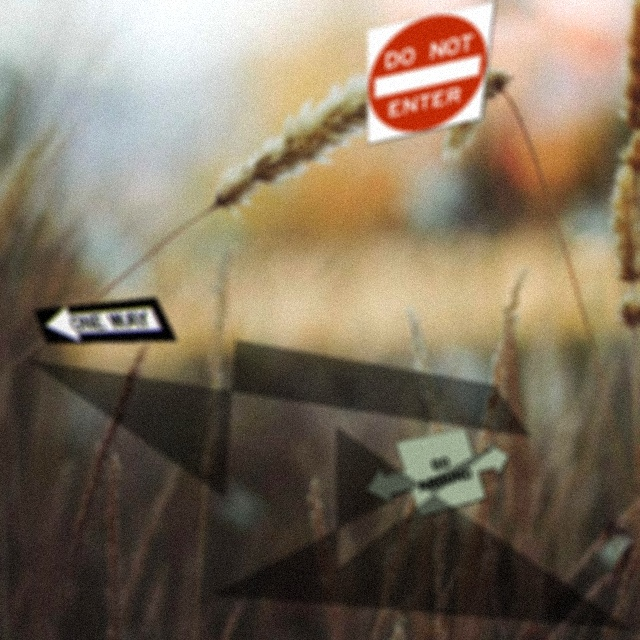DO_NOT_ENTER: (366, 0, 496, 145)
GO_AROUND: (365, 427, 510, 518)
ONE_WAY_ left: (33, 296, 178, 344)
